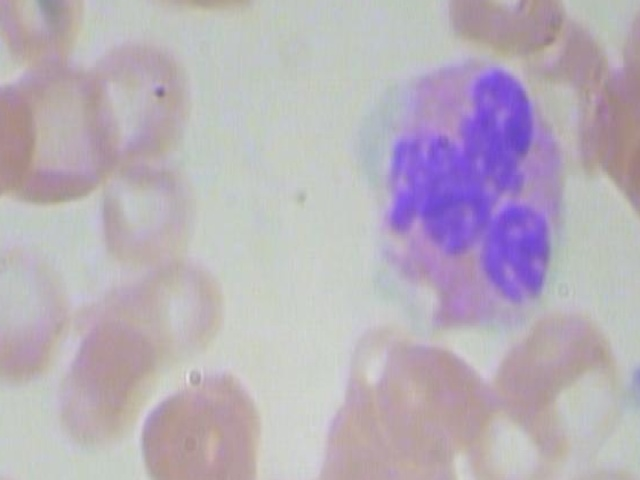Platelets: (619, 348, 640, 412), (636, 408, 640, 458)
WBC: (339, 54, 582, 334)
